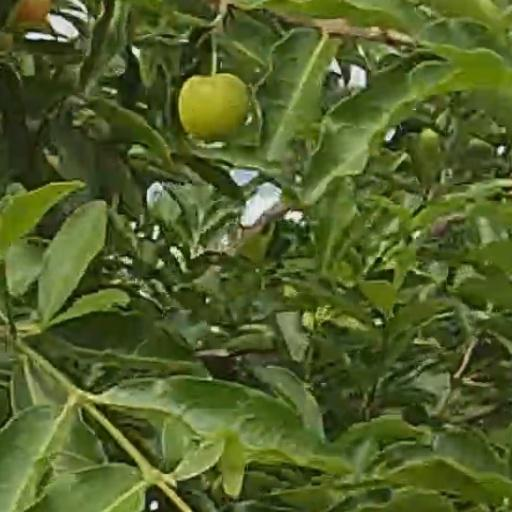acerola_verde: (177, 75, 250, 140)
